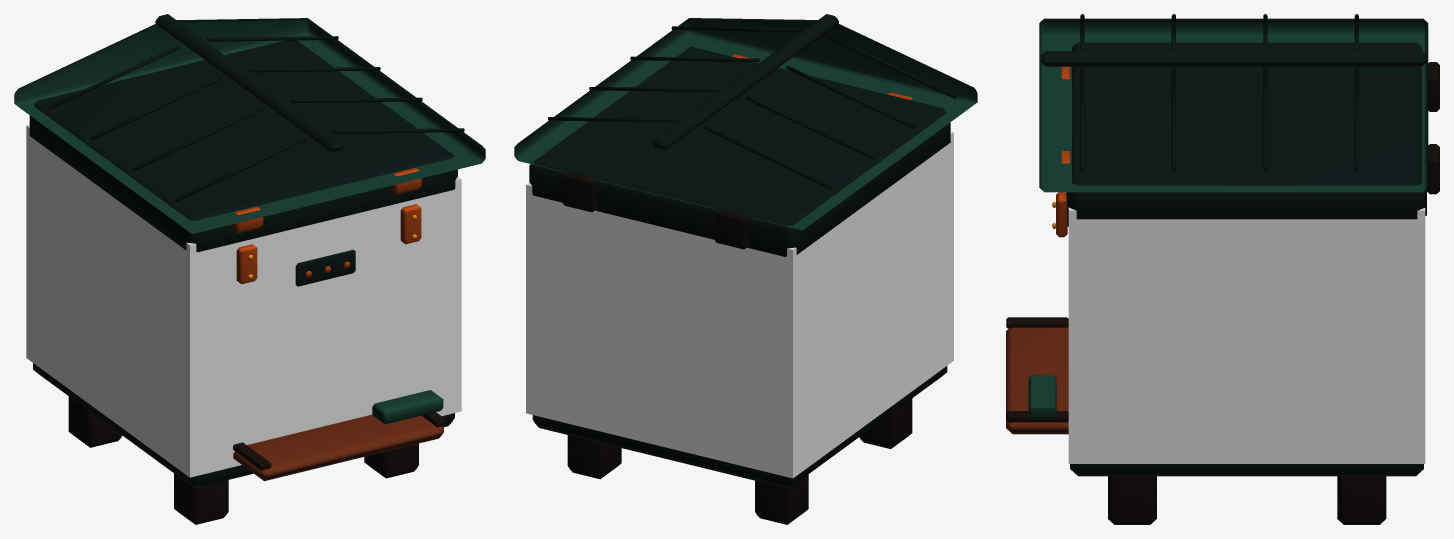
File: hive.fbx
The picture shows the model from 3 angles, left to right: view 1: azimuth 30°, elevation 25°; view 2: azimuth 150°, elevation 25°; view 3: azimuth 270°, elevation 25°; orthographic projection. The views are drawn at different scales.
Visible parts, largest first — view 1: HeatGlow, Lid, BoxLower, Stand, EntranceReducer; view 2: HeatGlow, Lid, Stand; view 3: HeatGlow, Lid, Stand, BoxLower, EntranceReducer.
Part boxes in pixels (x1=…): HeatGlow: x1=26, y1=124, x2=461, y2=477; Lid: x1=14, y1=14, x2=485, y2=252; BoxLower: x1=233, y1=204, x2=446, y2=481; Stand: x1=33, y1=363, x2=454, y2=524; EntranceReducer: x1=372, y1=390, x2=443, y2=424; HeatGlow: x1=526, y1=131, x2=953, y2=478; Lid: x1=514, y1=14, x2=977, y2=256; Stand: x1=532, y1=366, x2=947, y2=524; HeatGlow: x1=1068, y1=207, x2=1425, y2=463; Lid: x1=1039, y1=14, x2=1439, y2=219; Stand: x1=1070, y1=464, x2=1423, y2=524; BoxLower: x1=1006, y1=192, x2=1068, y2=434; EntranceReducer: x1=1028, y1=375, x2=1056, y2=419.
Bounding box in the file's own units: 0.45 × 0.5495 × 0.522.
